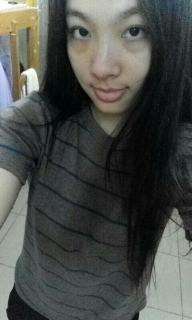short sleeve top: (0, 86, 192, 320)
